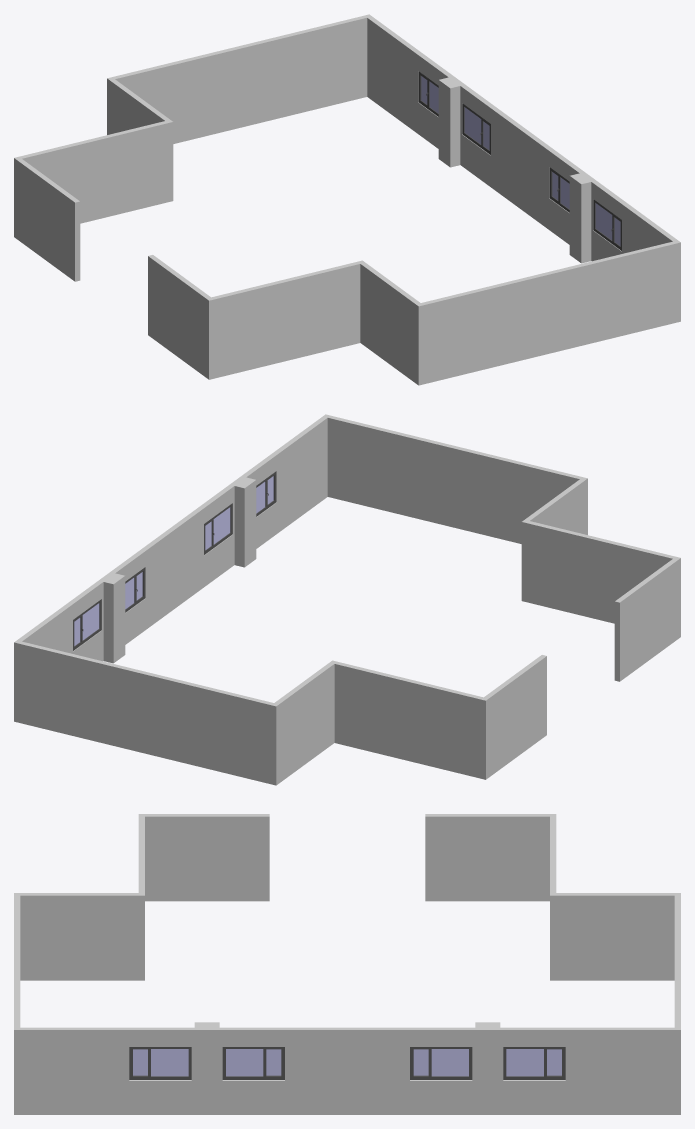
Rendered from Mur_SFC_FBX.fbx.
3 views of the same model, one above another, from view 1: azimuth 30°, elevation 25°; view 2: azimuth 150°, elevation 25°; view 3: azimuth 270°, elevation 25° (orthographic). The views are drawn at different scales.
Parts seen in each view (by area): view 1: Mur-SFC; view 2: Mur-SFC; view 3: Mur-SFC, Verre_fenetre002, Verre_fenetre, Verre_fenetre001, Verre_fenetre003, fenetre_2_SFC, fenetre_SFC001, fenetre_2_SFC001, fenetre_SFC.
Boxes of the visible parts, x1=… form: Mur-SFC: x1=14, y1=14, x2=680, y2=385; Mur-SFC: x1=14, y1=414, x2=680, y2=785; Mur-SFC: x1=14, y1=814, x2=680, y2=1114; Verre_fenetre002: x1=506, y1=1049, x2=543, y2=1076; Verre_fenetre: x1=151, y1=1049, x2=188, y2=1076; Verre_fenetre001: x1=226, y1=1049, x2=263, y2=1076; Verre_fenetre003: x1=431, y1=1049, x2=468, y2=1076; fenetre_2_SFC: x1=222, y1=1047, x2=284, y2=1079; fenetre_SFC001: x1=410, y1=1047, x2=472, y2=1079; fenetre_2_SFC001: x1=503, y1=1047, x2=565, y2=1079; fenetre_SFC: x1=129, y1=1047, x2=191, y2=1079.
Size of the model in its own units: 1640 by 300 by 2140.
